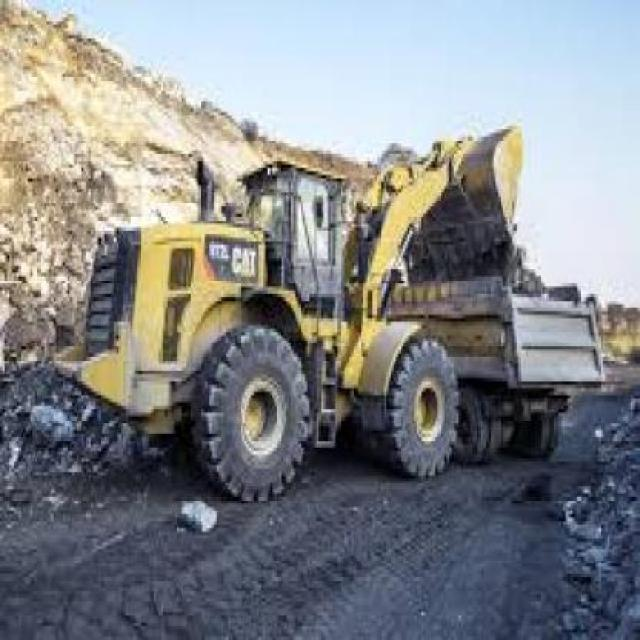buldozerpayloadergrader: (48, 104, 527, 502)
